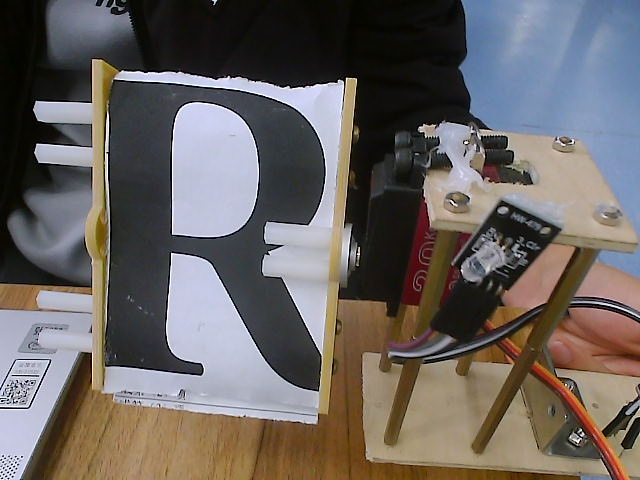R: (26, 42, 387, 435)
